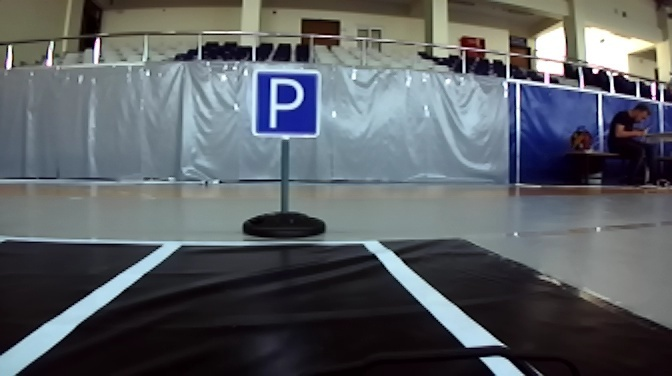park: (250, 66, 321, 139)
